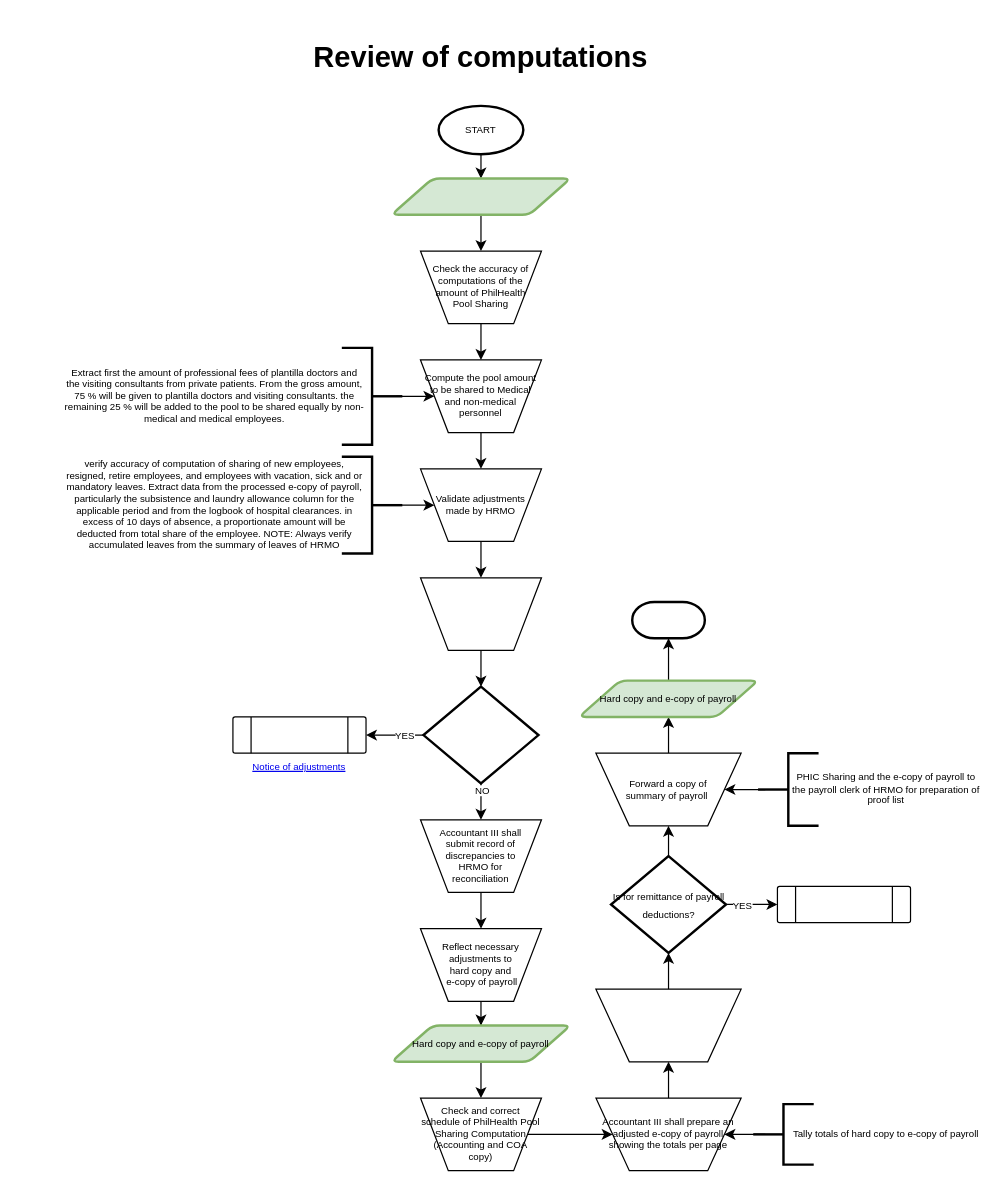
This 1003x1192 diagram has some shape labels left out. Here are the shapes that lost their labels. From the top down, the centre of each, then its label:
At point 480,196: "Workbook (Medical, non-medical personnel".
At point 480,613: "Make a record of discrepancies found and verify from HRMO".
At point 667,619: "END".
At point 480,734: "is discrepancy affect the obligated amount?".
At point 843,904: "Remittance of salary deductions except with holding tax".
At point 668,1025: "Prepare and print Summary of payroll".
